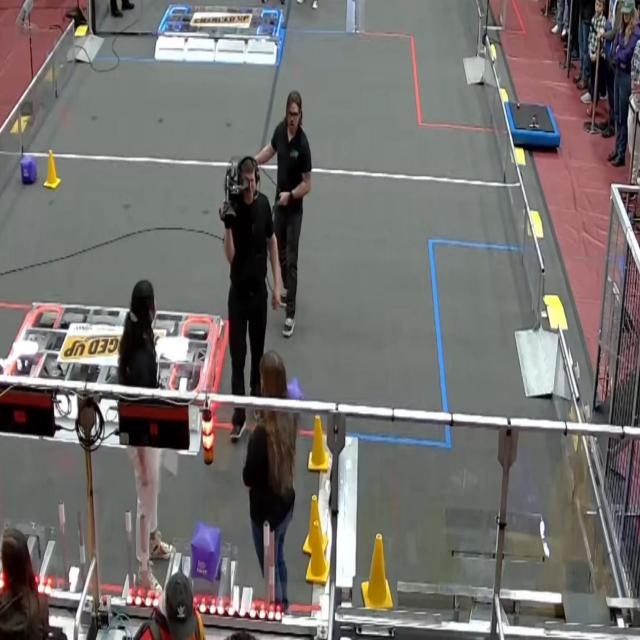frc_cone: (361, 532, 392, 612), (305, 520, 331, 585), (302, 494, 328, 558), (307, 415, 330, 472), (42, 150, 60, 188)
frc_cube: (191, 524, 220, 581), (286, 375, 304, 407), (21, 156, 38, 184)
